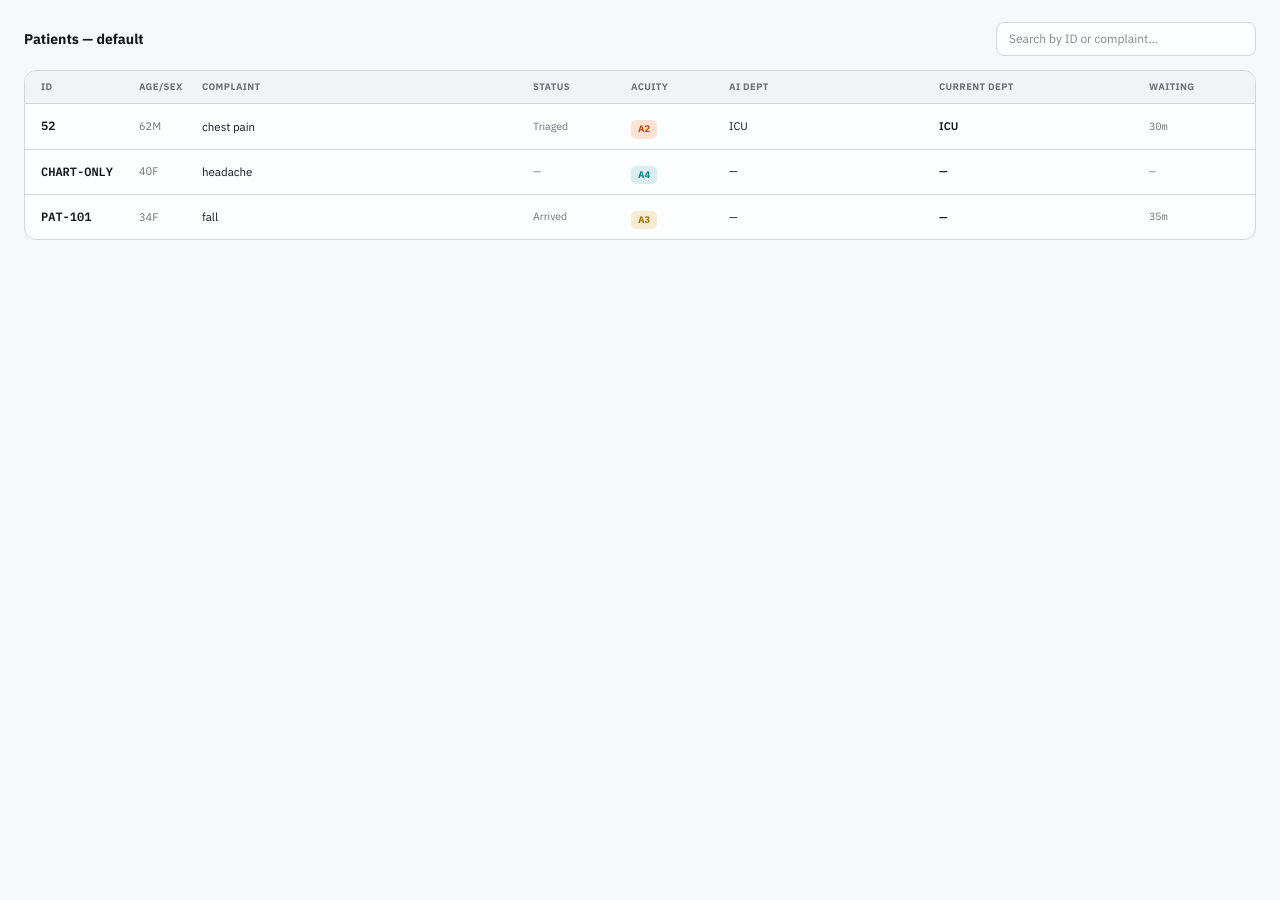
Test: PatientList table › opens the patient drawer on row click
The width and height of the screenshot is (1280, 900).
Click the text "52".
click(48, 126)  # box [41, 118, 55, 133]
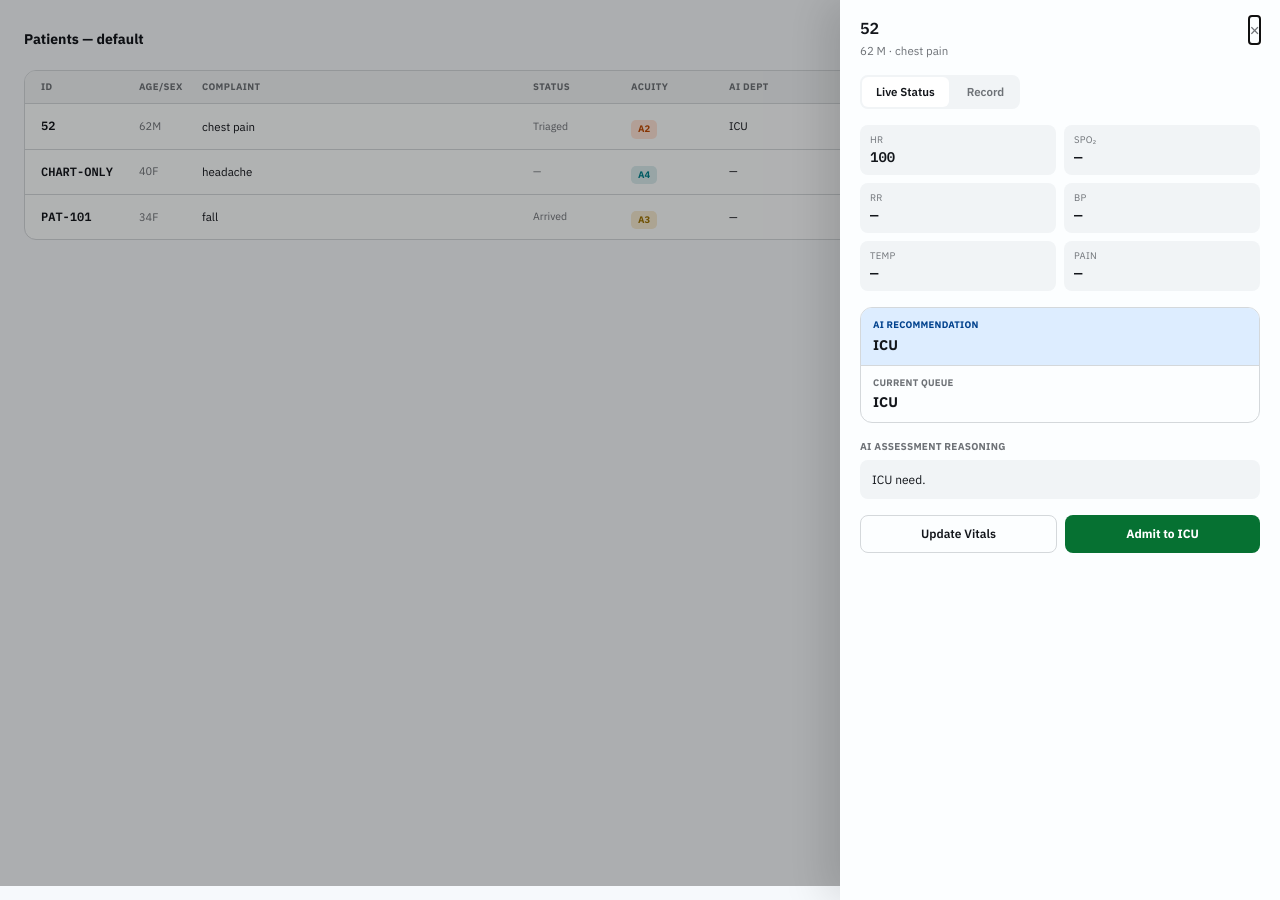
Expected: the text "ICU need." is shown, [860, 460, 1260, 499]
